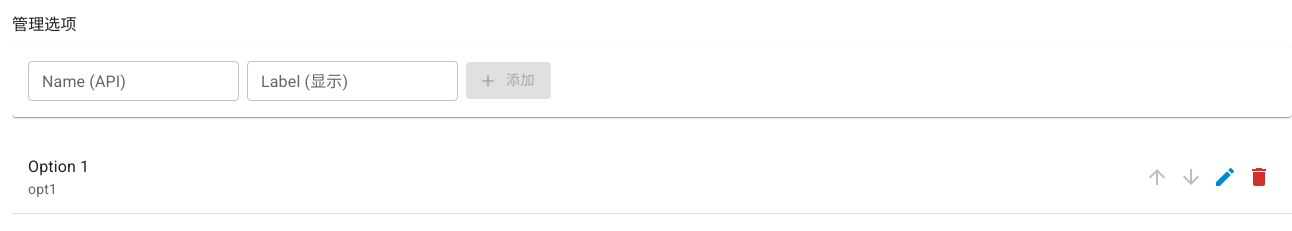
Test: PicklistOptionsEditor › updates an option
The width and height of the screenshot is (1292, 231).
Click the 4th button at (1225, 177), box [1208,160,1242,194]
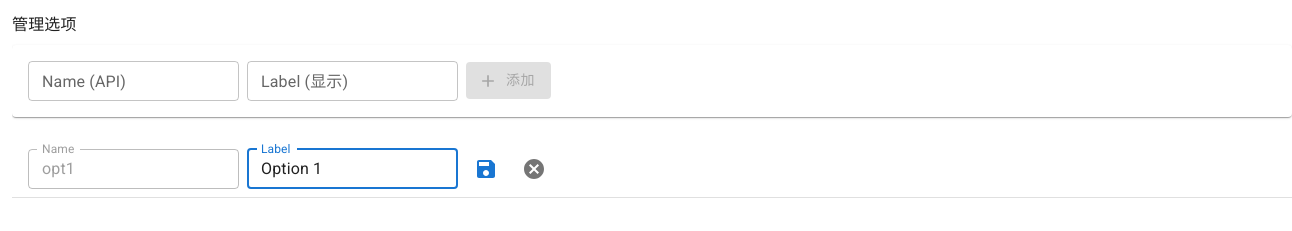
# Usually the last one added to DOM or we can check the value.
Replace the text in the field labelled "Label" with "Updated Label" at (352, 169), box [247,149,458,189]
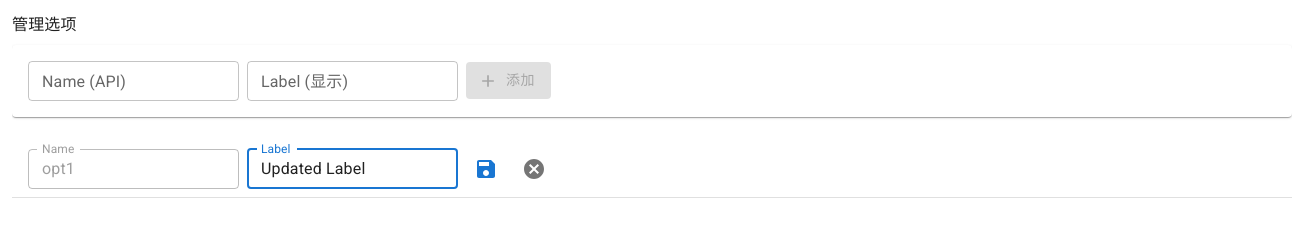
Click the 2nd button at (486, 169), box [466,149,506,189]
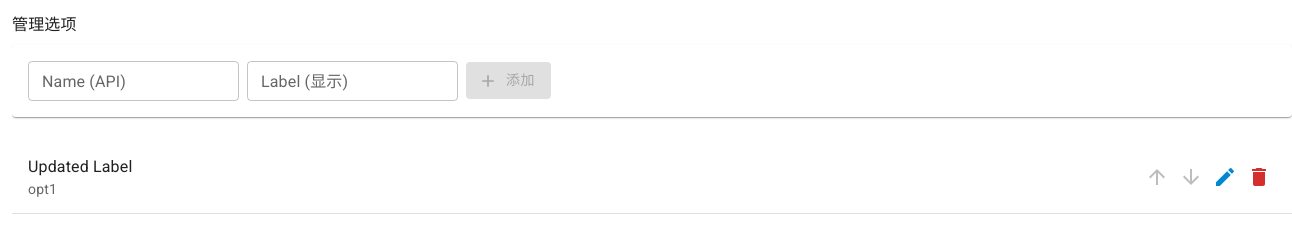
Check: the text "Updated Label" is shown, box [28,157,132,176]
